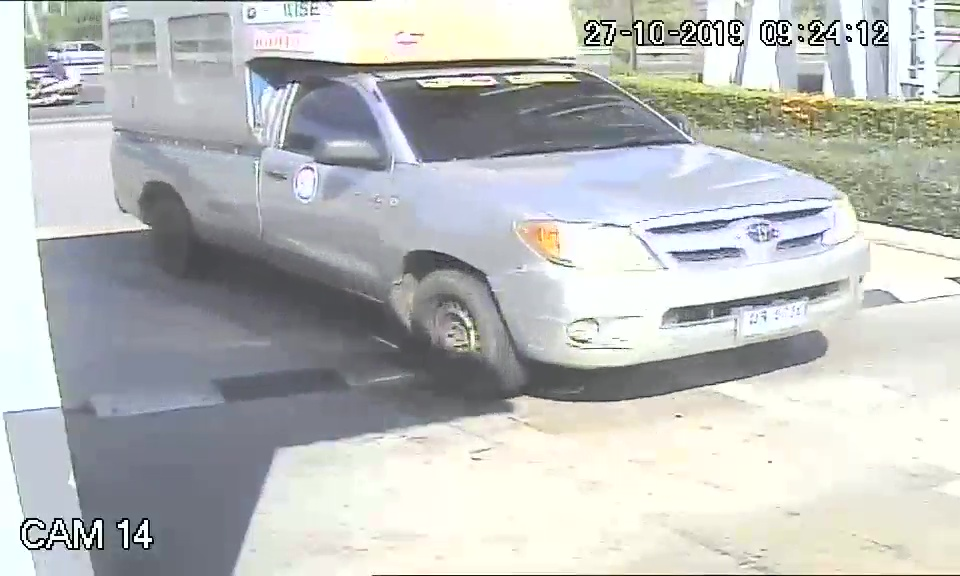pickup: (109, 55, 874, 400)
